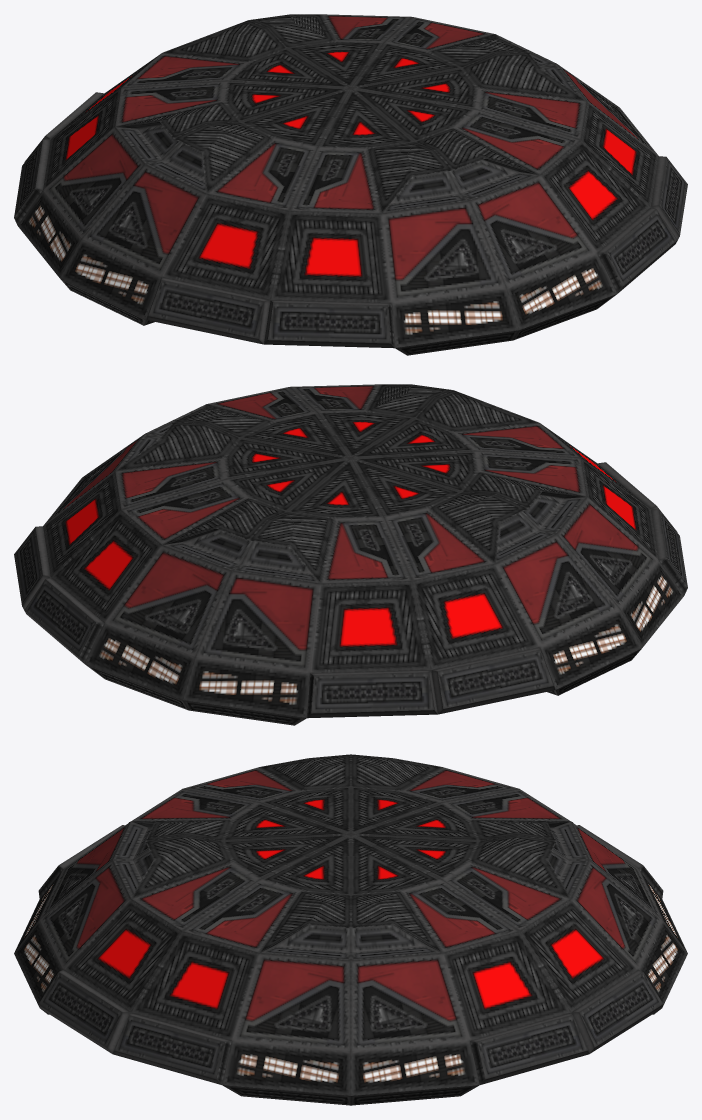
The model's file is BFP_SB_BridgeSection01.FBX.
3 renders of one model, top to bottom at view 1: azimuth 30°, elevation 25°; view 2: azimuth 150°, elevation 25°; view 3: azimuth 270°, elevation 25°, orthographic.
Visible parts, largest first — view 1: BFP_SB_BridgeSection01; view 2: BFP_SB_BridgeSection01; view 3: BFP_SB_BridgeSection01.
Part boxes in pixels (x1,y1,x2,y2): BFP_SB_BridgeSection01: (14,14,687,355); BFP_SB_BridgeSection01: (14,384,687,725); BFP_SB_BridgeSection01: (14,754,687,1105).
Size of the model in its own units: 1347 by 477 by 1347.
1 material, 1 textured.
